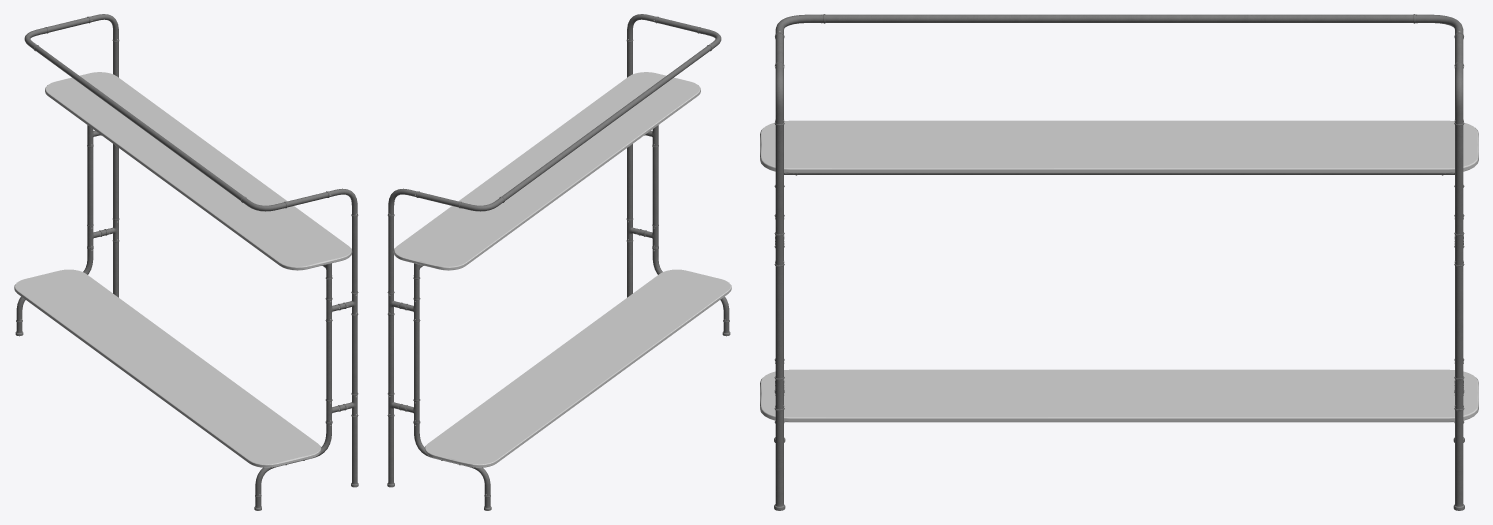
The model's file is SM_Rack_01a.fbx.
The picture shows the model from 3 angles, left to right: view 1: azimuth 30°, elevation 25°; view 2: azimuth 150°, elevation 25°; view 3: azimuth 270°, elevation 25°; orthographic projection. The views are drawn at different scales.
Parts seen in each view (by area): view 1: SM_Rack_01a_LOD0; view 2: SM_Rack_01a_LOD0; view 3: SM_Rack_01a_LOD0.
Boxes of the visible parts, x1,y1,x2,y2 form: SM_Rack_01a_LOD0: (14, 14, 358, 510); SM_Rack_01a_LOD0: (387, 14, 731, 510); SM_Rack_01a_LOD0: (760, 14, 1478, 510).
Size of the model in its own units: 75.73 by 313 by 206.
